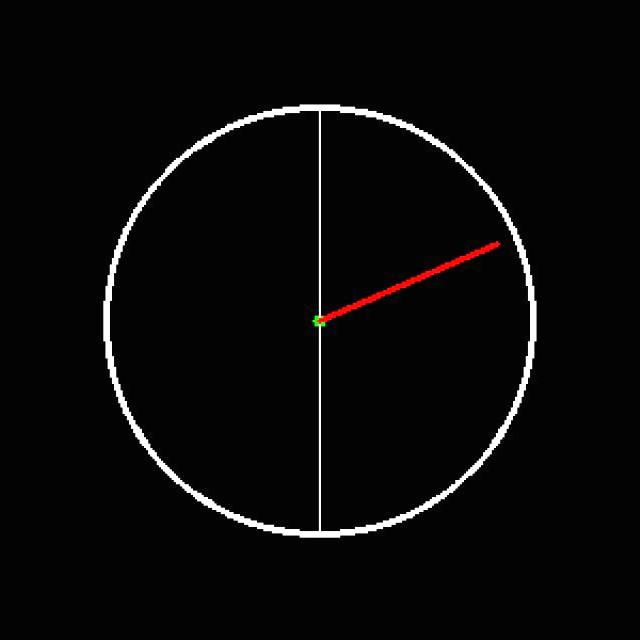Needle_Tip: (462, 213, 516, 286)
Needle_base: (286, 295, 348, 353)
